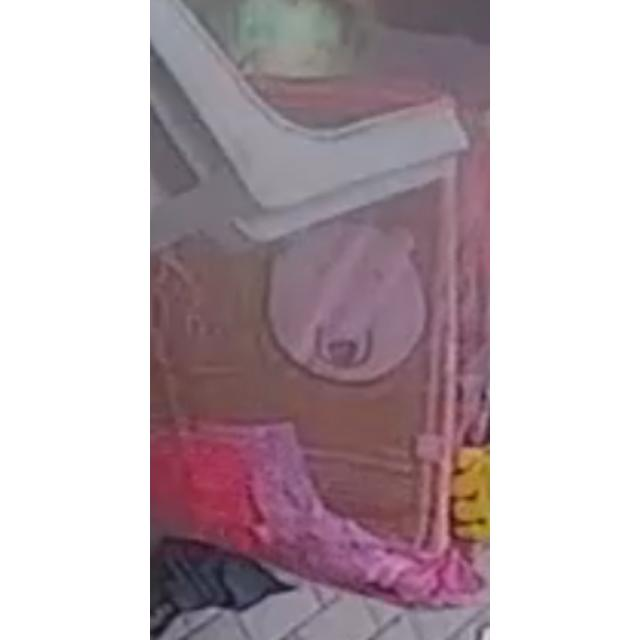other_trashbag: (152, 0, 488, 603)
